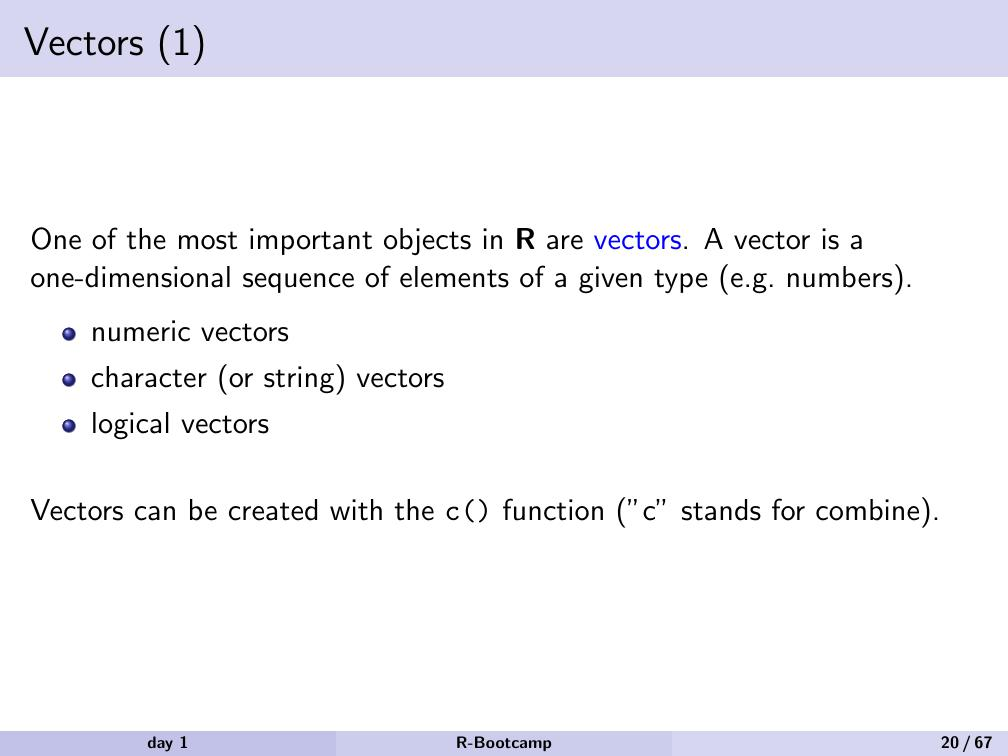Title: (11, 11, 209, 70)
